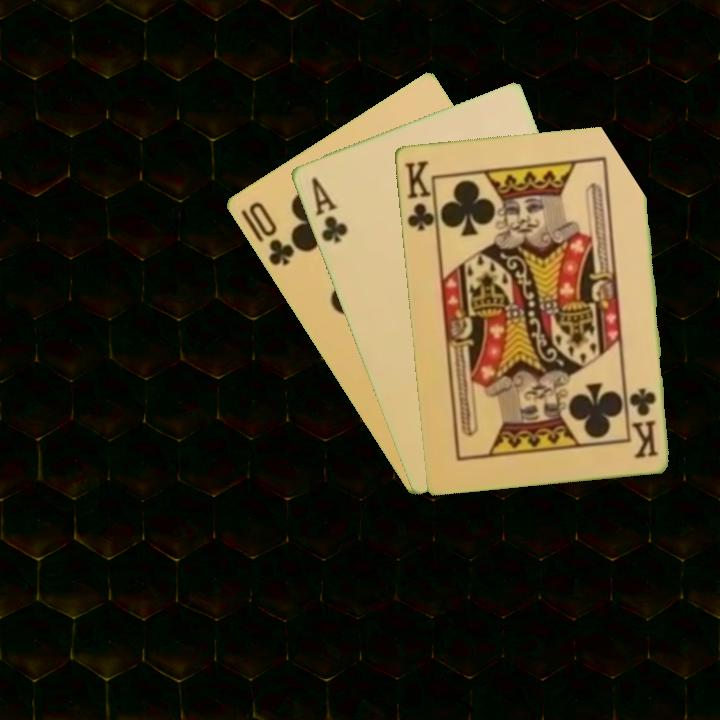10c: (244, 198, 297, 269)
Ac: (307, 174, 351, 246)
Kc: (401, 157, 439, 236), (627, 384, 661, 461)
